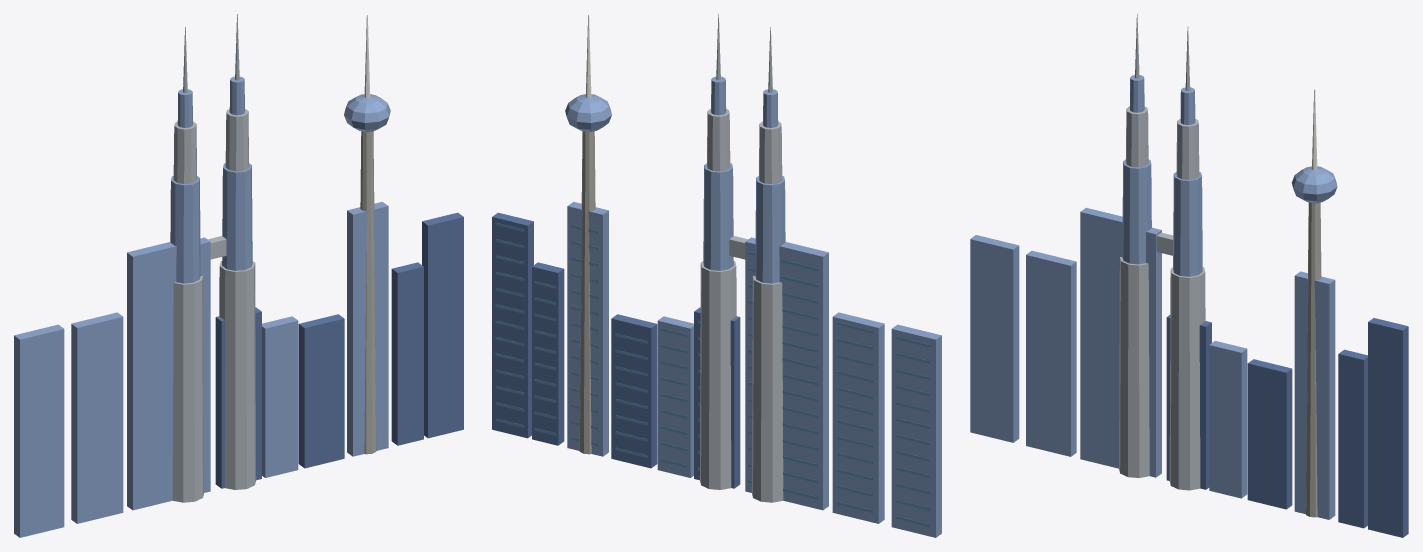
The model's file is env_kb_skyline.fbx.
3 views of the same model, side by side, from view 1: azimuth 30°, elevation 25°; view 2: azimuth 150°, elevation 25°; view 3: azimuth 330°, elevation 25° (orthographic). The views are drawn at different scales.
Visible parts, largest first — view 1: env_kb_skyline_geo; view 2: env_kb_skyline_geo; view 3: env_kb_skyline_geo.
Part boxes in pixels (x1,y1,x2,y2): env_kb_skyline_geo: (14,14,463,537); env_kb_skyline_geo: (492,14,941,537); env_kb_skyline_geo: (970,14,1408,537).
Bounding box in the file's own units: 85.38 × 86 × 8.
